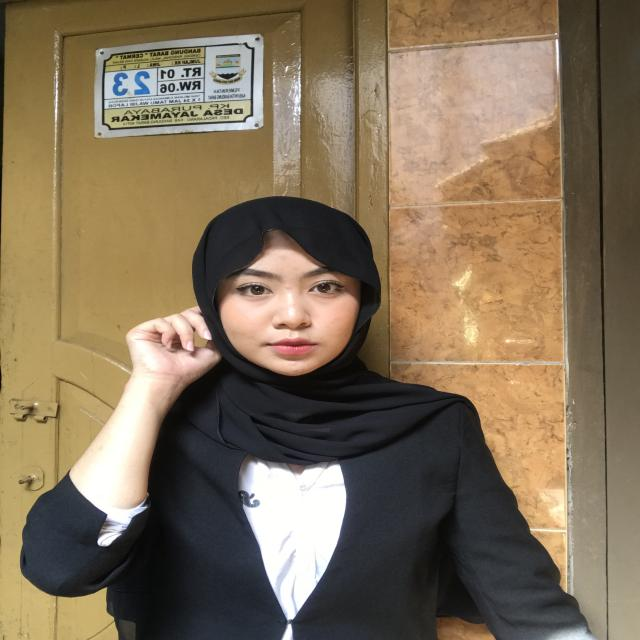ibu: (97, 300, 226, 446)
